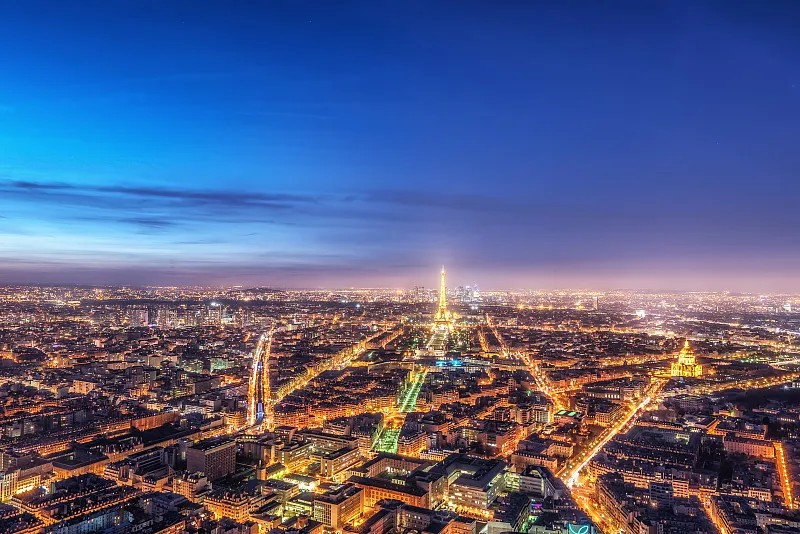Eiffel: (430, 262, 454, 334)
